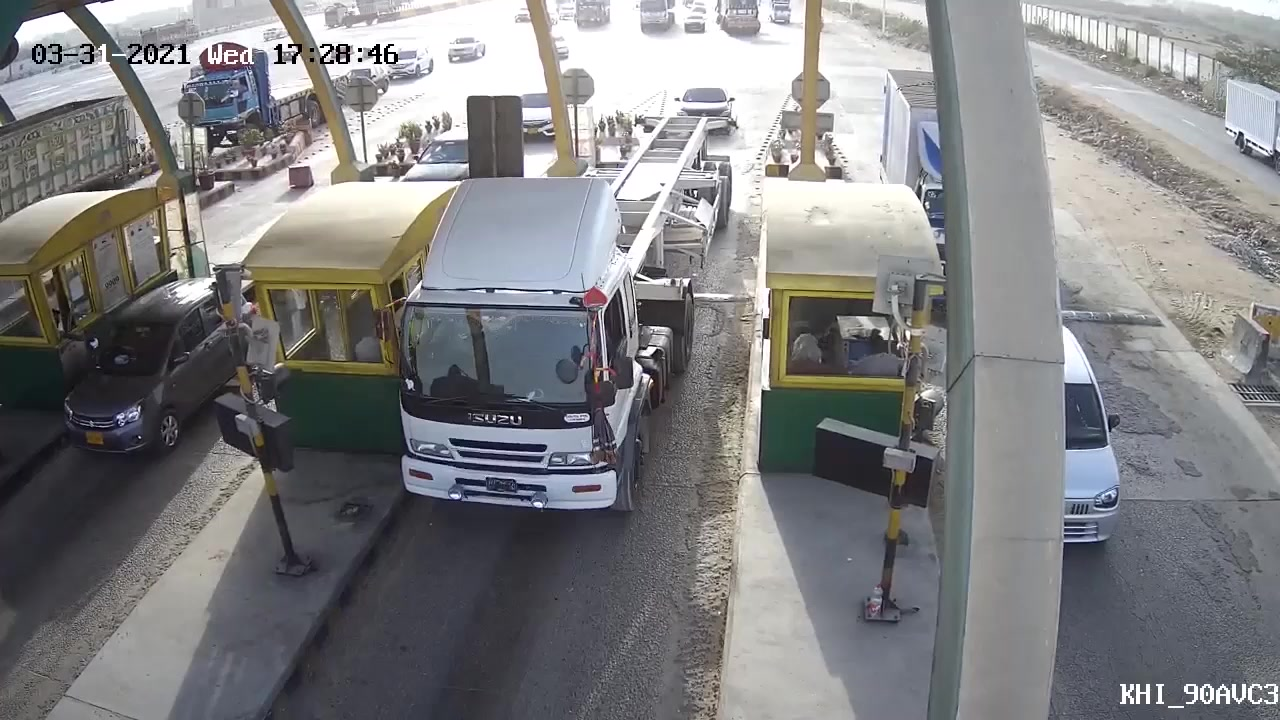F5: (368, 130, 727, 544)
